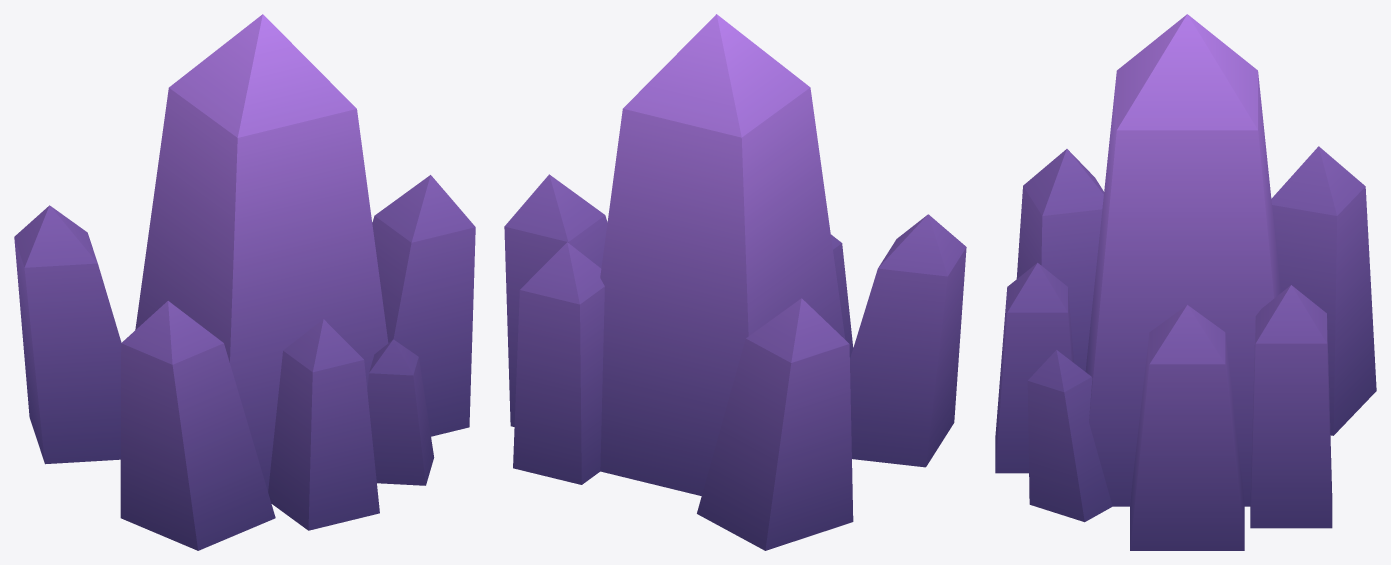
The model's file is Crystal_P_26.glb.
3 renders of one model, left to right at view 1: azimuth 30°, elevation 25°; view 2: azimuth 150°, elevation 25°; view 3: azimuth 270°, elevation 25°, orthographic. The views are drawn at different scales.
Parts seen in each view (by area): view 1: crystal_26; view 2: crystal_26; view 3: crystal_26.
Boxes of the visible parts, bbox=[...] form: crystal_26: bbox=[14, 14, 475, 550]; crystal_26: bbox=[504, 14, 966, 550]; crystal_26: bbox=[995, 14, 1376, 550].
Bounding box in the file's own units: 0.9136 × 1 × 0.7721.
Materials: 1 (1 with a texture image).
